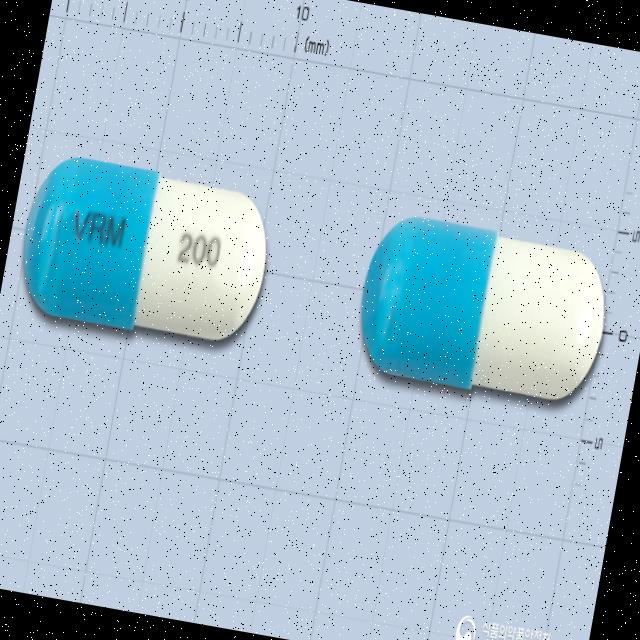Viramid Cap-200mg: (12, 146, 280, 354)
